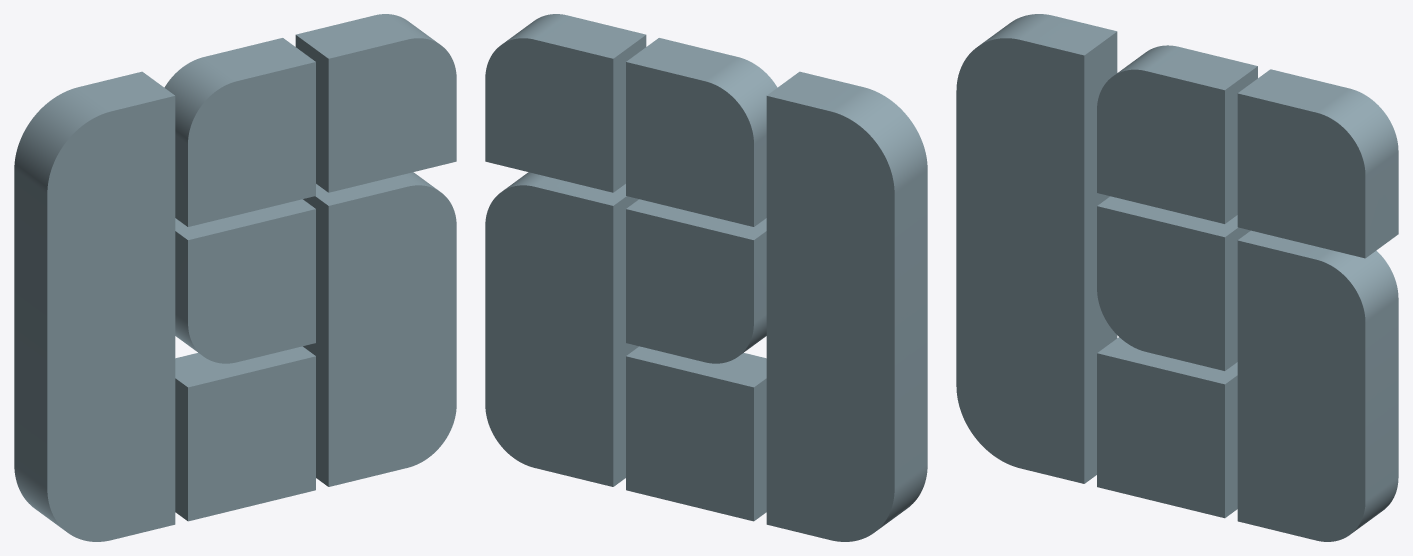
Rendered from Recurso 1.gltf.
The picture shows the model from 3 angles, left to right: view 1: azimuth 30°, elevation 25°; view 2: azimuth 150°, elevation 25°; view 3: azimuth 330°, elevation 25°; orthographic projection.
Size of the model in its own units: 0.0686 by 0.0687 by 0.0096.
